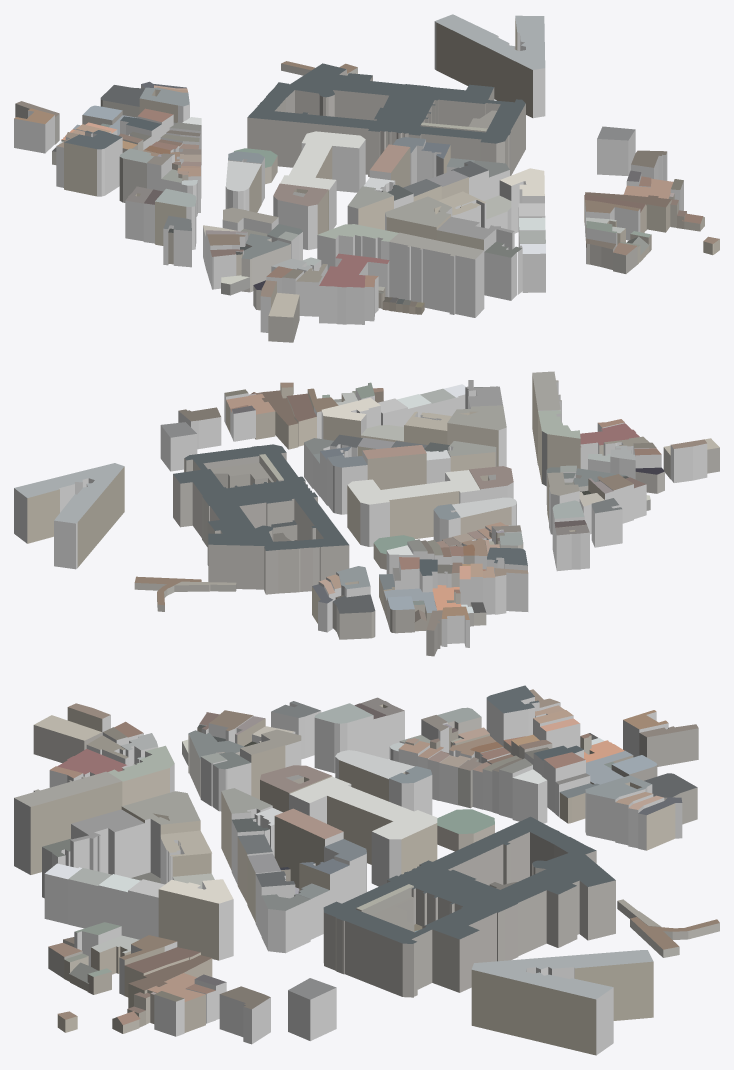
The picture shows the model from 3 angles, top to bottom: view 1: azimuth 30°, elevation 25°; view 2: azimuth 150°, elevation 25°; view 3: azimuth 270°, elevation 25°; orthographic projection. The views are drawn at different scales.
Visible parts, largest first — view 1: tuile; view 2: tuile; view 3: tuile.
Boxes of the visible parts, left/top/right/bottom form: tuile: left=14, top=14, right=719, bottom=342; tuile: left=14, top=371, right=719, bottom=656; tuile: left=14, top=685, right=719, bottom=1055.
Size of the model in its own units: 281 by 39.05 by 286.
